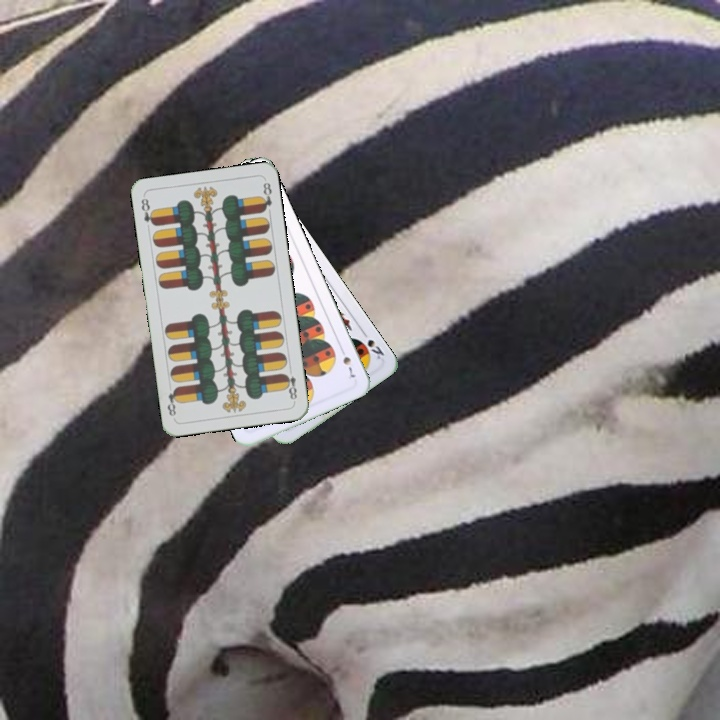E8: (280, 364, 299, 404), (137, 194, 158, 229)
S7: (336, 343, 358, 380)
SK: (357, 326, 387, 363)
